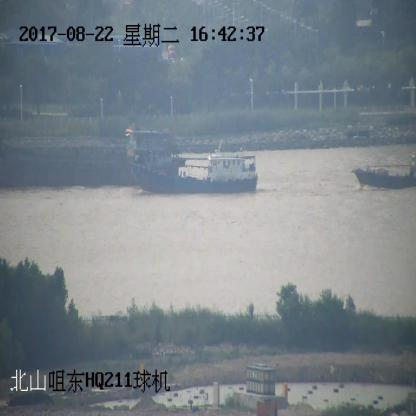Fishing Boat: (130, 150, 258, 195), (353, 160, 416, 190)
